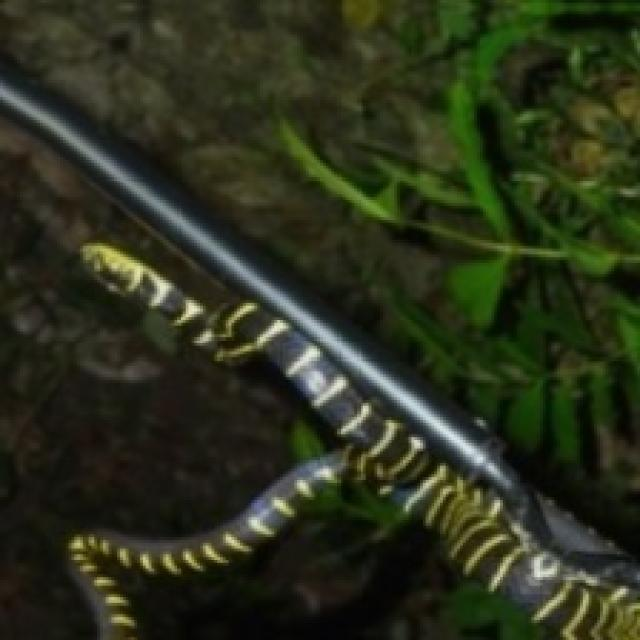mangrove cat snake: (69, 243, 637, 637)
